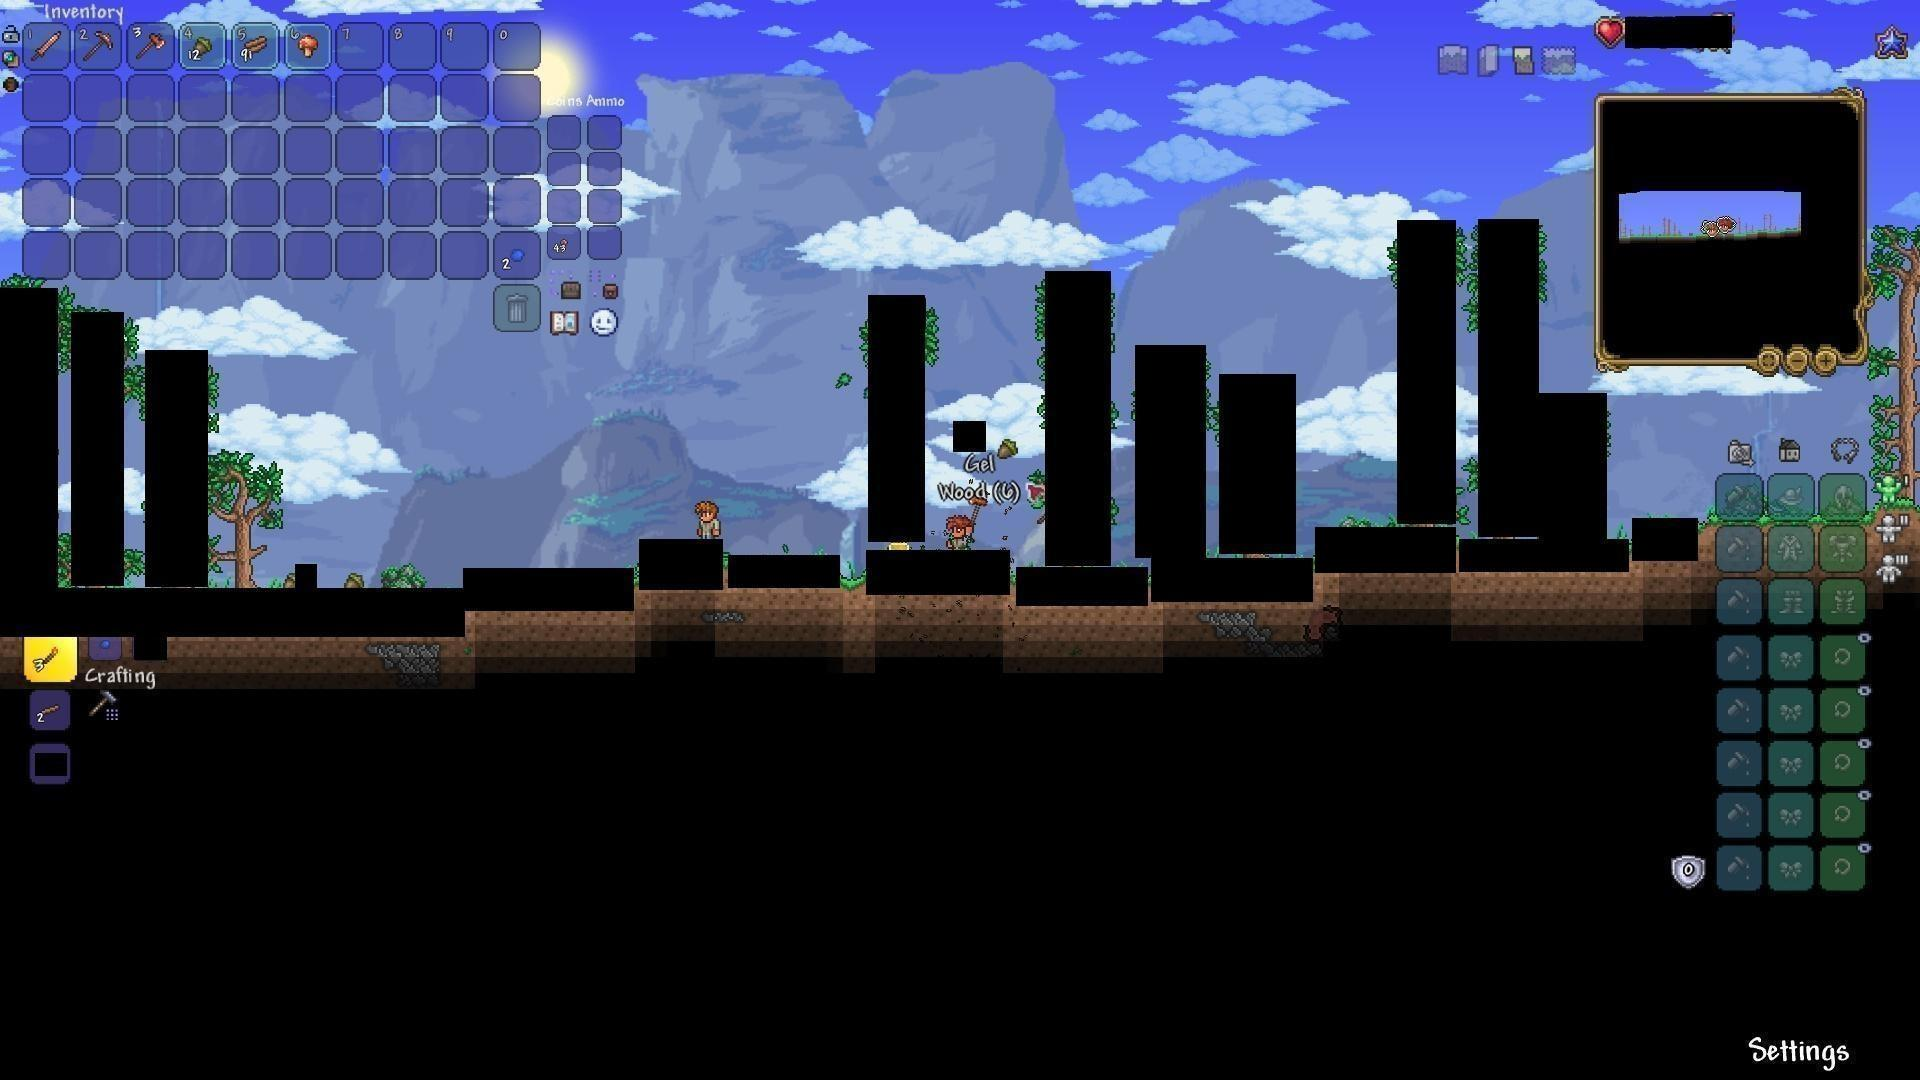heart: (1597, 15, 1627, 44)
tree: (212, 444, 280, 585), (1883, 219, 1917, 489)
wood: (240, 32, 272, 61)
